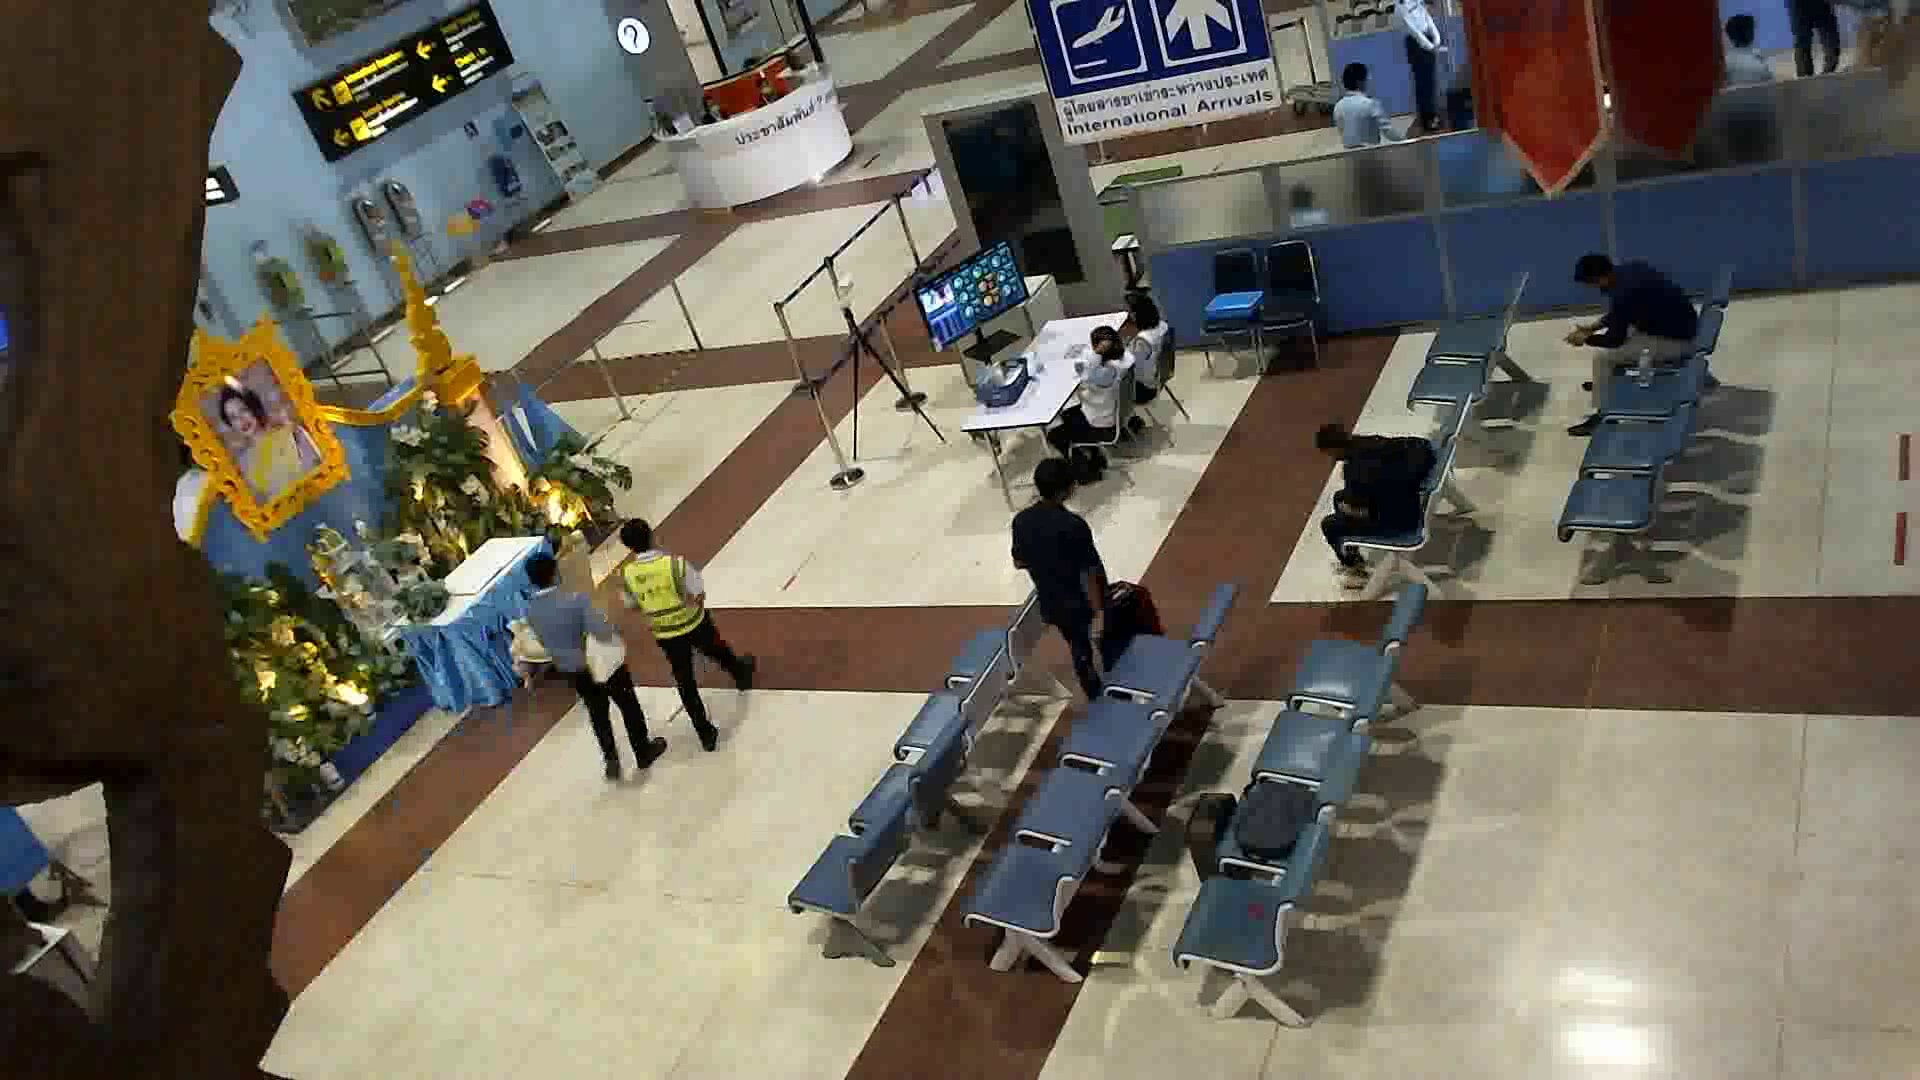backpack: (1235, 774, 1308, 863)
luggage: (1179, 784, 1251, 901), (1104, 576, 1162, 659)
people: (518, 549, 660, 791), (618, 516, 760, 757), (1006, 451, 1120, 707), (1570, 243, 1704, 436), (1293, 418, 1422, 599), (1041, 322, 1133, 488), (1116, 286, 1178, 418)
